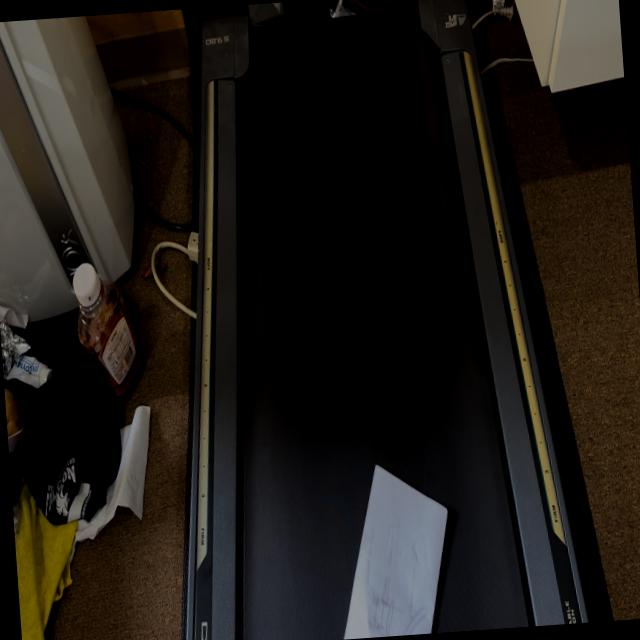Recycle: (326, 455, 459, 638)
